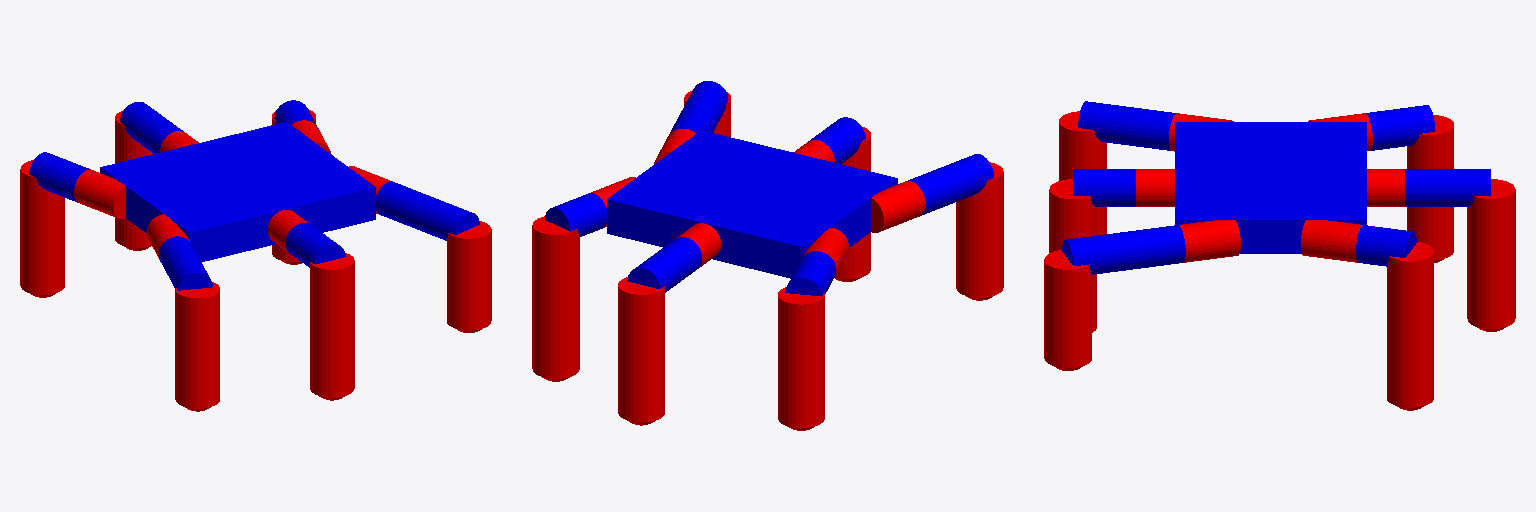
--- Facts derived from the render (not from the file) ---
The picture shows the robot from 3 angles, left to right: view 1: azimuth 30°, elevation 25°; view 2: azimuth 150°, elevation 25°; view 3: azimuth 270°, elevation 25°; orthographic projection.
Model pexod with 19 links and 18 joints (18 revolute), rooted at base_link, posed every joint at zero.
Visible links, largest first — view 1: base_link, leg_4_3, leg_5_3, leg_0_3, leg_3_3, leg_3_2, leg_5_2, leg_0_1, leg_1_2, leg_1_3, leg_4_2, leg_0_2 (+3 smaller); view 2: base_link, leg_2_3, leg_1_3, leg_0_3, leg_5_3, leg_5_2, leg_1_2, leg_5_1, leg_3_2, leg_2_2, leg_4_3, leg_0_2 (+5 smaller); view 3: base_link, leg_2_3, leg_1_3, leg_3_3, leg_3_2, leg_0_3, leg_5_2, leg_1_2, leg_4_3, leg_5_3, leg_0_2, leg_4_2 (+5 smaller).
Link boxes in pixels (left/top/right/bottom): base_link: left=100, top=122, right=375, bottom=261; leg_4_3: left=310, top=253, right=354, bottom=400; leg_5_3: left=175, top=282, right=219, bottom=411; leg_0_3: left=20, top=160, right=64, bottom=297; leg_3_3: left=447, top=221, right=491, bottom=332; leg_3_2: left=375, top=181, right=479, bottom=240; leg_5_2: left=159, top=236, right=212, bottom=290; leg_0_1: left=74, top=170, right=125, bottom=218; leg_1_2: left=120, top=102, right=183, bottom=153; leg_1_3: left=115, top=110, right=152, bottom=250; leg_4_2: left=286, top=223, right=345, bottom=267; leg_0_2: left=29, top=152, right=90, bottom=202; base_link: left=607, top=130, right=897, bottom=278; leg_2_3: left=532, top=216, right=579, bottom=381; leg_1_3: left=618, top=277, right=664, bottom=425; leg_0_3: left=778, top=287, right=824, bottom=430; leg_5_3: left=956, top=162, right=1003, bottom=300; leg_5_2: left=908, top=154, right=993, bottom=215; leg_1_2: left=627, top=237, right=701, bottom=292; leg_5_1: left=871, top=181, right=925, bottom=232; leg_3_2: left=670, top=81, right=728, bottom=133; leg_2_2: left=545, top=193, right=607, bottom=236; leg_4_3: left=835, top=127, right=870, bottom=281; leg_0_2: left=785, top=251, right=835, bottom=296; base_link: left=1175, top=122, right=1366, bottom=253; leg_2_3: left=1387, top=242, right=1433, bottom=410; leg_1_3: left=1467, top=179, right=1515, bottom=331; leg_3_3: left=1044, top=250, right=1091, bottom=370; leg_3_2: left=1062, top=225, right=1185, bottom=274; leg_0_3: left=1407, top=115, right=1453, bottom=262; leg_5_2: left=1078, top=101, right=1175, bottom=150; leg_1_2: left=1405, top=169, right=1490, bottom=206; leg_4_3: left=1049, top=179, right=1096, bottom=332; leg_5_3: left=1059, top=111, right=1106, bottom=234; leg_0_2: left=1366, top=105, right=1434, bottom=150; leg_4_2: left=1073, top=169, right=1135, bottom=206.
Size in the robot's own frame: 0.3907 by 0.4902 by 0.2004 metres.
Geometry: primitives only (box / cylinder / sphere), no mesh files.

The robot description file, URDF, robot "pexod":
<?xml version="1.0" ?>
<!-- =================================================================================== -->
<!-- |    This document was autogenerated by xacro from pexod.xacro                    | -->
<!-- |    EDITING THIS FILE BY HAND IS NOT RECOMMENDED                                 | -->
<!-- =================================================================================== -->
<robot name="pexod" xmlns:xacro="http://www.ros.org/wiki/xacro">
  <!-- <xacro:include filename="$(find pexod_description)/urdf/pexod_control.xacro" /> -->
  <!-- MATERIALS -->
  <material name="Blue">
    <color rgba="0 0 1 1"/>
  </material>
  <material name="Red">
    <color rgba="1 0 0 1"/>
  </material>
  <material name="Green">
    <color rgba="0 1 0 1"/>
  </material>
  <material name="Yellow">
    <color rgba="1 1 0 1"/>
  </material>
  <material name="LightGrey">
    <color rgba="0.6 0.6 0.6 1.0"/>
  </material>
  <!-- END OF MATERIALS -->
  <!-- XACRO MACROS FOR VISUALS AND COLLISIONS -->
  <!-- END OF XACRO MACROS -->
  <!-- TORSO -->
  <link name="base_link">
    <visual>
      <origin rpy="0 0 0" xyz="0 0 0"/>
      <geometry>
        <box size="0.24 0.2 0.04"/>
      </geometry>
      <material name="Blue"/>
    </visual>
    <collision>
      <origin rpy="0 0 0" xyz="0 0 0"/>
      <geometry>
        <box size="0.24 0.2 0.04"/>
      </geometry>
    </collision>
    <inertial>
      <!-- CENTER OF MASS -->
      <origin rpy="0 0 0" xyz="0 0 0"/>
      <mass value="1.031"/>
      <!-- box inertia: 1/12*m(y^2+z^2), ... -->
      <inertia ixx="0.00357413333333" ixy="0" ixz="0" iyy="0.00508626666667" iyz="0" izz="0.00838546666667"/>
    </inertial>
  </link>
  <!-- XACRO MACRO FOR LEGS LINKS/JOINTS -->
  <!-- END OF LEG LINKS/JOINTS -->
  <joint name="body_leg_2" type="revolute">
    <parent link="base_link"/>
    <child link="leg_2_1"/>
    <limit effort="30.0" lower="-1.57079632679" upper="1.57079632679" velocity="7.0"/>
    <origin rpy="0 0 -0.3" xyz="0.11 0.04 0"/>
    <!-- <xacro:if value="${index == 5 or index == 4 or index == 3}">
                <axis xyz="0 0 1"/>
            </xacro:if>
            <xacro:if value="${index == 2 or index == 1 or index == 0}"> -->
    <axis xyz="0 0 1"/>
    <!-- </xacro:if> -->
    <dynamics damping="0.0"/>
  </joint>
  <link name="leg_2_1">
    <visual>
      <origin rpy="1.57079632679 0 0" xyz="0.01 0.03 0"/>
      <geometry>
        <cylinder length="0.06" radius="0.02"/>
      </geometry>
      <material name="Red"/>
    </visual>
    <collision>
      <origin rpy="1.57079632679 0 0" xyz="0.01 0.03 0"/>
      <geometry>
        <box size="0.02 0.02 0.06"/>
      </geometry>
    </collision>
    <inertial>
      <!-- CENTER OF MASS -->
      <origin rpy="1.57079632679 0 0" xyz="0.01 0.03 0"/>
      <mass value="0.02"/>
      <!-- box inertia: 1/12*m(y^2+z^2), ... -->
      <inertia ixx="6.66666666667e-06" ixy="0" ixz="0" iyy="6.66666666667e-06" iyz="0" izz="1.33333333333e-06"/>
    </inertial>
  </link>
  <joint name="leg_2_1_2" type="revolute">
    <parent link="leg_2_1"/>
    <child link="leg_2_2"/>
    <limit effort="30.0" lower="-0.78539816339" upper="0.78539816339" velocity="7.0"/>
    <origin rpy="0 0 0" xyz="0 0.06 0"/>
    <axis xyz="1 0 0"/>
    <dynamics damping="0.0"/>
  </joint>
  <link name="leg_2_2">
    <visual>
      <origin rpy="1.57079632679 0 0" xyz="0.01 0.0270207860094 0"/>
      <geometry>
        <cylinder length="0.0540415720187" radius="0.02"/>
      </geometry>
      <material name="Blue"/>
    </visual>
    <collision>
      <origin rpy="1.57079632679 0 0" xyz="0.01 0.0270207860094 0"/>
      <geometry>
        <box size="0.02 0.02 0.0540415720187"/>
      </geometry>
    </collision>
    <inertial>
      <!-- CENTER OF MASS -->
      <origin rpy="1.57079632679 0 0" xyz="0.01 0.0270207860094 0"/>
      <mass value="0.184"/>
      <!-- box inertia: 1/12*m(y^2+z^2), ... -->
      <inertia ixx="5.09142030959e-05" ixy="0" ixz="0" iyy="5.09142030959e-05" iyz="0" izz="1.22666666667e-05"/>
    </inertial>
  </link>
  <joint name="leg_2_2_3" type="revolute">
    <parent link="leg_2_2"/>
    <child link="leg_2_3"/>
    <limit effort="30.0" lower="-0.78539816339" upper="0.78539816339" velocity="7.0"/>
    <origin rpy="-1.57079632679 0 0" xyz="0 0.0540415720187 0"/>
    <axis xyz="-1 0 0"/>
    <dynamics damping="0.0"/>
  </joint>
  <link name="leg_2_3">
    <visual>
      <origin rpy="1.57079632679 0 0" xyz="0.0125 0.083936785351 0"/>
      <geometry>
        <cylinder length="0.167873570702" radius="0.025"/>
      </geometry>
      <material name="Red"/>
    </visual>
    <visual>
      <origin rpy="1.57079632679 0 0" xyz="0.0125 0.155373570702 0"/>
      <geometry>
        <sphere radius="0.025"/>
      </geometry>
      <material name="Red"/>
    </visual>
    <collision>
      <origin rpy="1.57079632679 0 0" xyz="0.0125 0.083936785351 0"/>
      <geometry>
        <box size="0.025 0.025 0.167873570702"/>
      </geometry>
    </collision>
    <collision>
      <origin rpy="1.57079632679 0 0" xyz="0.0125 0.155373570702 0"/>
      <geometry>
        <sphere radius="0.025"/>
      </geometry>
      <material name="Red"/>
    </collision>
    <inertial>
      <!-- CENTER OF MASS -->
      <origin rpy="1.57079632679 0 0" xyz="0.0125 0.083936785351 0"/>
      <mass value="0.04"/>
      <!-- box inertia: 1/12*m(y^2+z^2), ... -->
      <inertia ixx="9.60217858008e-05" ixy="0" ixz="0" iyy="9.60217858008e-05" iyz="0" izz="4.16666666667e-06"/>
    </inertial>
  </link>
  <joint name="body_leg_3" type="revolute">
    <parent link="base_link"/>
    <child link="leg_3_1"/>
    <limit effort="30.0" lower="-1.57079632679" upper="1.57079632679" velocity="7.0"/>
    <origin rpy="0 0 0.3" xyz="0.11 -0.04 0"/>
    <!-- <xacro:if value="${index == 5 or index == 4 or index == 3}">
                <axis xyz="0 0 1"/>
            </xacro:if>
            <xacro:if value="${index == 2 or index == 1 or index == 0}"> -->
    <axis xyz="0 0 1"/>
    <!-- </xacro:if> -->
    <dynamics damping="0.0"/>
  </joint>
  <link name="leg_3_1">
    <visual>
      <origin rpy="1.57079632679 0 0" xyz="0.01 -0.03 0"/>
      <geometry>
        <cylinder length="0.06" radius="0.02"/>
      </geometry>
      <material name="Red"/>
    </visual>
    <collision>
      <origin rpy="1.57079632679 0 0" xyz="0.01 -0.03 0"/>
      <geometry>
        <box size="0.02 0.02 0.06"/>
      </geometry>
    </collision>
    <inertial>
      <!-- CENTER OF MASS -->
      <origin rpy="1.57079632679 0 0" xyz="0.01 -0.03 0"/>
      <mass value="0.02"/>
      <!-- box inertia: 1/12*m(y^2+z^2), ... -->
      <inertia ixx="6.66666666667e-06" ixy="0" ixz="0" iyy="6.66666666667e-06" iyz="0" izz="1.33333333333e-06"/>
    </inertial>
  </link>
  <joint name="leg_3_1_2" type="revolute">
    <parent link="leg_3_1"/>
    <child link="leg_3_2"/>
    <limit effort="30.0" lower="-0.78539816339" upper="0.78539816339" velocity="7.0"/>
    <origin rpy="0 0 0" xyz="0 -0.06 0"/>
    <axis xyz="-1 0 0"/>
    <dynamics damping="0.0"/>
  </joint>
  <link name="leg_3_2">
    <visual>
      <origin rpy="1.57079632679 0 0" xyz="0.01 -0.061266767923 0"/>
      <geometry>
        <cylinder length="0.122533535846" radius="0.02"/>
      </geometry>
      <material name="Blue"/>
    </visual>
    <collision>
      <origin rpy="1.57079632679 0 0" xyz="0.01 -0.061266767923 0"/>
      <geometry>
        <box size="0.02 0.02 0.122533535846"/>
      </geometry>
    </collision>
    <inertial>
      <!-- CENTER OF MASS -->
      <origin rpy="1.57079632679 0 0" xyz="0.01 -0.061266767923 0"/>
      <mass value="0.184"/>
      <!-- box inertia: 1/12*m(y^2+z^2), ... -->
      <inertia ixx="0.000236355166906" ixy="0" ixz="0" iyy="0.000236355166906" iyz="0" izz="1.22666666667e-05"/>
    </inertial>
  </link>
  <joint name="leg_3_2_3" type="revolute">
    <parent link="leg_3_2"/>
    <child link="leg_3_3"/>
    <limit effort="30.0" lower="-0.78539816339" upper="0.78539816339" velocity="7.0"/>
    <origin rpy="1.57079632679 0 0" xyz="0 -0.122533535846 0"/>
    <axis xyz="1 0 0"/>
    <dynamics damping="0.0"/>
  </joint>
  <link name="leg_3_3">
    <visual>
      <origin rpy="1.57079632679 0 0" xyz="0.0125 -0.0565674017125 0"/>
      <geometry>
        <cylinder length="0.113134803425" radius="0.025"/>
      </geometry>
      <material name="Red"/>
    </visual>
    <visual>
      <origin rpy="1.57079632679 0 0" xyz="0.0125 -0.100634803425 0"/>
      <geometry>
        <sphere radius="0.025"/>
      </geometry>
      <material name="Red"/>
    </visual>
    <collision>
      <origin rpy="1.57079632679 0 0" xyz="0.0125 -0.0565674017125 0"/>
      <geometry>
        <box size="0.025 0.025 0.113134803425"/>
      </geometry>
    </collision>
    <collision>
      <origin rpy="1.57079632679 0 0" xyz="0.0125 -0.100634803425 0"/>
      <geometry>
        <sphere radius="0.025"/>
      </geometry>
      <material name="Red"/>
    </collision>
    <inertial>
      <!-- CENTER OF MASS -->
      <origin rpy="1.57079632679 0 0" xyz="0.0125 -0.0565674017125 0"/>
      <mass value="0.04"/>
      <!-- box inertia: 1/12*m(y^2+z^2), ... -->
      <inertia ixx="4.47482791534e-05" ixy="0" ixz="0" iyy="4.47482791534e-05" iyz="0" izz="4.16666666667e-06"/>
    </inertial>
  </link>
  <joint name="body_leg_0" type="revolute">
    <parent link="base_link"/>
    <child link="leg_0_1"/>
    <limit effort="30.0" lower="-1.57079632679" upper="1.57079632679" velocity="7.0"/>
    <origin rpy="0 0 0.3" xyz="-0.13 0.04 0"/>
    <!-- <xacro:if value="${index == 5 or index == 4 or index == 3}">
                <axis xyz="0 0 1"/>
            </xacro:if>
            <xacro:if value="${index == 2 or index == 1 or index == 0}"> -->
    <axis xyz="0 0 1"/>
    <!-- </xacro:if> -->
    <dynamics damping="0.0"/>
  </joint>
  <link name="leg_0_1">
    <visual>
      <origin rpy="1.57079632679 0 0" xyz="0.01 0.03 0"/>
      <geometry>
        <cylinder length="0.06" radius="0.02"/>
      </geometry>
      <material name="Red"/>
    </visual>
    <collision>
      <origin rpy="1.57079632679 0 0" xyz="0.01 0.03 0"/>
      <geometry>
        <box size="0.02 0.02 0.06"/>
      </geometry>
    </collision>
    <inertial>
      <!-- CENTER OF MASS -->
      <origin rpy="1.57079632679 0 0" xyz="0.01 0.03 0"/>
      <mass value="0.02"/>
      <!-- box inertia: 1/12*m(y^2+z^2), ... -->
      <inertia ixx="6.66666666667e-06" ixy="0" ixz="0" iyy="6.66666666667e-06" iyz="0" izz="1.33333333333e-06"/>
    </inertial>
  </link>
  <joint name="leg_0_1_2" type="revolute">
    <parent link="leg_0_1"/>
    <child link="leg_0_2"/>
    <limit effort="30.0" lower="-0.78539816339" upper="0.78539816339" velocity="7.0"/>
    <origin rpy="0 0 0" xyz="0 0.06 0"/>
    <axis xyz="1 0 0"/>
    <dynamics damping="0.0"/>
  </joint>
  <link name="leg_0_2">
    <visual>
      <origin rpy="1.57079632679 0 0" xyz="0.01 0.0340978033136 0"/>
      <geometry>
        <cylinder length="0.0681956066272" radius="0.02"/>
      </geometry>
      <material name="Blue"/>
    </visual>
    <collision>
      <origin rpy="1.57079632679 0 0" xyz="0.01 0.0340978033136 0"/>
      <geometry>
        <box size="0.02 0.02 0.0681956066272"/>
      </geometry>
    </collision>
    <inertial>
      <!-- CENTER OF MASS -->
      <origin rpy="1.57079632679 0 0" xyz="0.01 0.0340978033136 0"/>
      <mass value="0.184"/>
      <!-- box inertia: 1/12*m(y^2+z^2), ... -->
      <inertia ixx="7.74431583699e-05" ixy="0" ixz="0" iyy="7.74431583699e-05" iyz="0" izz="1.22666666667e-05"/>
    </inertial>
  </link>
  <joint name="leg_0_2_3" type="revolute">
    <parent link="leg_0_2"/>
    <child link="leg_0_3"/>
    <limit effort="30.0" lower="-0.78539816339" upper="0.78539816339" velocity="7.0"/>
    <origin rpy="-1.57079632679 0 0" xyz="0 0.0681956066272 0"/>
    <axis xyz="-1 0 0"/>
    <dynamics damping="0.0"/>
  </joint>
  <link name="leg_0_3">
    <visual>
      <origin rpy="1.57079632679 0 0" xyz="0.0125 0.0721084295595 0"/>
      <geometry>
        <cylinder length="0.144216859119" radius="0.025"/>
      </geometry>
      <material name="Red"/>
    </visual>
    <visual>
      <origin rpy="1.57079632679 0 0" xyz="0.0125 0.131716859119 0"/>
      <geometry>
        <sphere radius="0.025"/>
      </geometry>
      <material name="Red"/>
    </visual>
    <collision>
      <origin rpy="1.57079632679 0 0" xyz="0.0125 0.0721084295595 0"/>
      <geometry>
        <box size="0.025 0.025 0.144216859119"/>
      </geometry>
    </collision>
    <collision>
      <origin rpy="1.57079632679 0 0" xyz="0.0125 0.131716859119 0"/>
      <geometry>
        <sphere radius="0.025"/>
      </geometry>
      <material name="Red"/>
    </collision>
    <inertial>
      <!-- CENTER OF MASS -->
      <origin rpy="1.57079632679 0 0" xyz="0.0125 0.0721084295595 0"/>
      <mass value="0.04"/>
      <!-- box inertia: 1/12*m(y^2+z^2), ... -->
      <inertia ixx="7.14116748472e-05" ixy="0" ixz="0" iyy="7.14116748472e-05" iyz="0" izz="4.16666666667e-06"/>
    </inertial>
  </link>
  <joint name="body_leg_5" type="revolute">
    <parent link="base_link"/>
    <child link="leg_5_1"/>
    <limit effort="30.0" lower="-1.57079632679" upper="1.57079632679" velocity="7.0"/>
    <origin rpy="0 0 -0.3" xyz="-0.13 -0.04 0"/>
    <!-- <xacro:if value="${index == 5 or index == 4 or index == 3}">
                <axis xyz="0 0 1"/>
            </xacro:if>
            <xacro:if value="${index == 2 or index == 1 or index == 0}"> -->
    <axis xyz="0 0 1"/>
    <!-- </xacro:if> -->
    <dynamics damping="0.0"/>
  </joint>
  <link name="leg_5_1">
    <visual>
      <origin rpy="1.57079632679 0 0" xyz="0.01 -0.03 0"/>
      <geometry>
        <cylinder length="0.06" radius="0.02"/>
      </geometry>
      <material name="Red"/>
    </visual>
    <collision>
      <origin rpy="1.57079632679 0 0" xyz="0.01 -0.03 0"/>
      <geometry>
        <box size="0.02 0.02 0.06"/>
      </geometry>
    </collision>
    <inertial>
      <!-- CENTER OF MASS -->
      <origin rpy="1.57079632679 0 0" xyz="0.01 -0.03 0"/>
      <mass value="0.02"/>
      <!-- box inertia: 1/12*m(y^2+z^2), ... -->
      <inertia ixx="6.66666666667e-06" ixy="0" ixz="0" iyy="6.66666666667e-06" iyz="0" izz="1.33333333333e-06"/>
    </inertial>
  </link>
  <joint name="leg_5_1_2" type="revolute">
    <parent link="leg_5_1"/>
    <child link="leg_5_2"/>
    <limit effort="30.0" lower="-0.78539816339" upper="0.78539816339" velocity="7.0"/>
    <origin rpy="0 0 0" xyz="0 -0.06 0"/>
    <axis xyz="-1 0 0"/>
    <dynamics damping="0.0"/>
  </joint>
  <link name="leg_5_2">
    <visual>
      <origin rpy="1.57079632679 0 0" xyz="0.01 -0.0494324249976 0"/>
      <geometry>
        <cylinder length="0.0988648499952" radius="0.02"/>
      </geometry>
      <material name="Blue"/>
    </visual>
    <collision>
      <origin rpy="1.57079632679 0 0" xyz="0.01 -0.0494324249976 0"/>
      <geometry>
        <box size="0.02 0.02 0.0988648499952"/>
      </geometry>
    </collision>
    <inertial>
      <!-- CENTER OF MASS -->
      <origin rpy="1.57079632679 0 0" xyz="0.01 -0.0494324249976 0"/>
      <mass value="0.184"/>
      <!-- box inertia: 1/12*m(y^2+z^2), ... -->
      <inertia ixx="0.00015600529799" ixy="0" ixz="0" iyy="0.00015600529799" iyz="0" izz="1.22666666667e-05"/>
    </inertial>
  </link>
  <joint name="leg_5_2_3" type="revolute">
    <parent link="leg_5_2"/>
    <child link="leg_5_3"/>
    <limit effort="30.0" lower="-0.78539816339" upper="0.78539816339" velocity="7.0"/>
    <origin rpy="1.57079632679 0 0" xyz="0 -0.0988648499952 0"/>
    <axis xyz="1 0 0"/>
    <dynamics damping="0.0"/>
  </joint>
  <link name="leg_5_3">
    <visual>
      <origin rpy="1.57079632679 0 0" xyz="0.0125 -0.068059560037 0"/>
      <geometry>
        <cylinder length="0.136119120074" radius="0.025"/>
      </geometry>
      <material name="Red"/>
    </visual>
    <visual>
      <origin rpy="1.57079632679 0 0" xyz="0.0125 -0.123619120074 0"/>
      <geometry>
        <sphere radius="0.025"/>
      </geometry>
      <material name="Red"/>
    </visual>
    <collision>
      <origin rpy="1.57079632679 0 0" xyz="0.0125 -0.068059560037 0"/>
      <geometry>
        <box size="0.025 0.025 0.136119120074"/>
      </geometry>
    </collision>
    <collision>
      <origin rpy="1.57079632679 0 0" xyz="0.0125 -0.123619120074 0"/>
      <geometry>
        <sphere radius="0.025"/>
      </geometry>
      <material name="Red"/>
    </collision>
    <inertial>
      <!-- CENTER OF MASS -->
      <origin rpy="1.57079632679 0 0" xyz="0.0125 -0.068059560037 0"/>
      <mass value="0.04"/>
      <!-- box inertia: 1/12*m(y^2+z^2), ... -->
      <inertia ixx="6.38447161657e-05" ixy="0" ixz="0" iyy="6.38447161657e-05" iyz="0" izz="4.16666666667e-06"/>
    </inertial>
  </link>
  <joint name="body_leg_1" type="revolute">
    <parent link="base_link"/>
    <child link="leg_1_1"/>
    <limit effort="30.0" lower="-1.57079632679" upper="1.57079632679" velocity="7.0"/>
    <origin rpy="0 0 0" xyz="-0.01 0.08 0"/>
    <!-- <xacro:if value="${index == 5 or index == 4 or index == 3}">
                <axis xyz="0 0 1"/>
            </xacro:if>
            <xacro:if value="${index == 2 or index == 1 or index == 0}"> -->
    <axis xyz="0 0 1"/>
    <!-- </xacro:if> -->
    <dynamics damping="0.0"/>
  </joint>
  <link name="leg_1_1">
    <visual>
      <origin rpy="1.57079632679 0 0" xyz="0.01 0.03 0"/>
      <geometry>
        <cylinder length="0.06" radius="0.02"/>
      </geometry>
      <material name="Red"/>
    </visual>
    <collision>
      <origin rpy="1.57079632679 0 0" xyz="0.01 0.03 0"/>
      <geometry>
        <box size="0.02 0.02 0.06"/>
      </geometry>
    </collision>
    <inertial>
      <!-- CENTER OF MASS -->
      <origin rpy="1.57079632679 0 0" xyz="0.01 0.03 0"/>
      <mass value="0.02"/>
      <!-- box inertia: 1/12*m(y^2+z^2), ... -->
      <inertia ixx="6.66666666667e-06" ixy="0" ixz="0" iyy="6.66666666667e-06" iyz="0" izz="1.33333333333e-06"/>
    </inertial>
  </link>
  <joint name="leg_1_1_2" type="revolute">
    <parent link="leg_1_1"/>
    <child link="leg_1_2"/>
    <limit effort="30.0" lower="-0.78539816339" upper="0.78539816339" velocity="7.0"/>
    <origin rpy="0 0 0" xyz="0 0.06 0"/>
    <axis xyz="1 0 0"/>
    <dynamics damping="0.0"/>
  </joint>
  <link name="leg_1_2">
    <visual>
      <origin rpy="1.57079632679 0 0" xyz="0.01 0.0448111977116 0"/>
      <geometry>
        <cylinder length="0.0896223954232" radius="0.02"/>
      </geometry>
      <material name="Blue"/>
    </visual>
    <collision>
      <origin rpy="1.57079632679 0 0" xyz="0.01 0.0448111977116 0"/>
      <geometry>
        <box size="0.02 0.02 0.0896223954232"/>
      </geometry>
    </collision>
    <inertial>
      <!-- CENTER OF MASS -->
      <origin rpy="1.57079632679 0 0" xyz="0.01 0.0448111977116 0"/>
      <mass value="0.184"/>
      <!-- box inertia: 1/12*m(y^2+z^2), ... -->
      <inertia ixx="0.000129293331008" ixy="0" ixz="0" iyy="0.000129293331008" iyz="0" izz="1.22666666667e-05"/>
    </inertial>
  </link>
  <joint name="leg_1_2_3" type="revolute">
    <parent link="leg_1_2"/>
    <child link="leg_1_3"/>
    <limit effort="30.0" lower="-0.78539816339" upper="0.78539816339" velocity="7.0"/>
    <origin rpy="-1.57079632679 0 0" xyz="0 0.0896223954232 0"/>
    <axis xyz="-1 0 0"/>
    <dynamics damping="0.0"/>
  </joint>
  <link name="leg_1_3">
    <visual>
      <origin rpy="1.57079632679 0 0" xyz="0.0125 0.0745377365915 0"/>
      <geometry>
        <cylinder length="0.149075473183" radius="0.025"/>
      </geometry>
      <material name="Red"/>
    </visual>
    <visual>
      <origin rpy="1.57079632679 0 0" xyz="0.0125 0.136575473183 0"/>
      <geometry>
        <sphere radius="0.025"/>
      </geometry>
      <material name="Red"/>
    </visual>
    <collision>
      <origin rpy="1.57079632679 0 0" xyz="0.0125 0.0745377365915 0"/>
      <geometry>
        <box size="0.025 0.025 0.149075473183"/>
      </geometry>
    </collision>
    <collision>
      <origin rpy="1.57079632679 0 0" xyz="0.0125 0.136575473183 0"/>
      <geometry>
        <sphere radius="0.025"/>
      </geometry>
      <material name="Red"/>
    </collision>
    <inertial>
      <!-- CENTER OF MASS -->
      <origin rpy="1.57079632679 0 0" xyz="0.0125 0.0745377365915 0"/>
      <mass value="0.04"/>
      <!-- box inertia: 1/12*m(y^2+z^2), ... -->
      <inertia ixx="7.61616556825e-05" ixy="0" ixz="0" iyy="7.61616556825e-05" iyz="0" izz="4.16666666667e-06"/>
    </inertial>
  </link>
  <joint name="body_leg_4" type="revolute">
    <parent link="base_link"/>
    <child link="leg_4_1"/>
    <limit effort="30.0" lower="-1.57079632679" upper="1.57079632679" velocity="7.0"/>
    <origin rpy="0 0 0" xyz="-0.01 -0.08 0"/>
    <!-- <xacro:if value="${index == 5 or index == 4 or index == 3}">
                <axis xyz="0 0 1"/>
            </xacro:if>
            <xacro:if value="${index == 2 or index == 1 or index == 0}"> -->
    <axis xyz="0 0 1"/>
    <!-- </xacro:if> -->
    <dynamics damping="0.0"/>
  </joint>
  <link name="leg_4_1">
    <visual>
      <origin rpy="1.57079632679 0 0" xyz="0.01 -0.03 0"/>
      <geometry>
        <cylinder length="0.06" radius="0.02"/>
      </geometry>
      <material name="Red"/>
    </visual>
    <collision>
      <origin rpy="1.57079632679 0 0" xyz="0.01 -0.03 0"/>
      <geometry>
        <box size="0.02 0.02 0.06"/>
      </geometry>
    </collision>
    <inertial>
      <!-- CENTER OF MASS -->
      <origin rpy="1.57079632679 0 0" xyz="0.01 -0.03 0"/>
      <mass value="0.02"/>
      <!-- box inertia: 1/12*m(y^2+z^2), ... -->
      <inertia ixx="6.66666666667e-06" ixy="0" ixz="0" iyy="6.66666666667e-06" iyz="0" izz="1.33333333333e-06"/>
    </inertial>
  </link>
  <joint name="leg_4_1_2" type="revolute">
    <parent link="leg_4_1"/>
    <child link="leg_4_2"/>
    <limit effort="30.0" lower="-0.78539816339" upper="0.78539816339" velocity="7.0"/>
    <origin rpy="0 0 0" xyz="0 -0.06 0"/>
    <axis xyz="-1 0 0"/>
    <dynamics damping="0.0"/>
  </joint>
  <link name="leg_4_2">
    <visual>
      <origin rpy="1.57079632679 0 0" xyz="0.01 -0.0327223460049 0"/>
      <geometry>
        <cylinder length="0.0654446920097" radius="0.02"/>
      </geometry>
      <material name="Blue"/>
    </visual>
    <collision>
      <origin rpy="1.57079632679 0 0" xyz="0.01 -0.0327223460049 0"/>
      <geometry>
        <box size="0.02 0.02 0.0654446920097"/>
      </geometry>
    </collision>
    <inertial>
      <!-- CENTER OF MASS -->
      <origin rpy="1.57079632679 0 0" xyz="0.01 -0.0327223460049 0"/>
      <mass value="0.184"/>
      <!-- box inertia: 1/12*m(y^2+z^2), ... -->
      <inertia ixx="7.18061182544e-05" ixy="0" ixz="0" iyy="7.18061182544e-05" iyz="0" izz="1.22666666667e-05"/>
    </inertial>
  </link>
  <joint name="leg_4_2_3" type="revolute">
    <parent link="leg_4_2"/>
    <child link="leg_4_3"/>
    <limit effort="30.0" lower="-0.78539816339" upper="0.78539816339" velocity="7.0"/>
    <origin rpy="1.57079632679 0 0" xyz="0 -0.0654446920097 0"/>
    <axis xyz="1 0 0"/>
    <dynamics damping="0.0"/>
  </joint>
  <link name="leg_4_3">
    <visual>
      <origin rpy="1.57079632679 0 0" xyz="0.0125 -0.078789293014 0"/>
      <geometry>
        <cylinder length="0.157578586028" radius="0.025"/>
      </geometry>
      <material name="Red"/>
    </visual>
    <visual>
      <origin rpy="1.57079632679 0 0" xyz="0.0125 -0.145078586028 0"/>
      <geometry>
        <sphere radius="0.025"/>
      </geometry>
      <material name="Red"/>
    </visual>
    <collision>
      <origin rpy="1.57079632679 0 0" xyz="0.0125 -0.078789293014 0"/>
      <geometry>
        <box size="0.025 0.025 0.157578586028"/>
      </geometry>
    </collision>
    <collision>
      <origin rpy="1.57079632679 0 0" xyz="0.0125 -0.145078586028 0"/>
      <geometry>
        <sphere radius="0.025"/>
      </geometry>
      <material name="Red"/>
    </collision>
    <inertial>
      <!-- CENTER OF MASS -->
      <origin rpy="1.57079632679 0 0" xyz="0.0125 -0.078789293014 0"/>
      <mass value="0.04"/>
      <!-- box inertia: 1/12*m(y^2+z^2), ... -->
      <inertia ixx="8.48533692486e-05" ixy="0" ixz="0" iyy="8.48533692486e-05" iyz="0" izz="4.16666666667e-06"/>
    </inertial>
  </link>
  <!-- END OF LEG LINKS/JOINTS -->
</robot>
